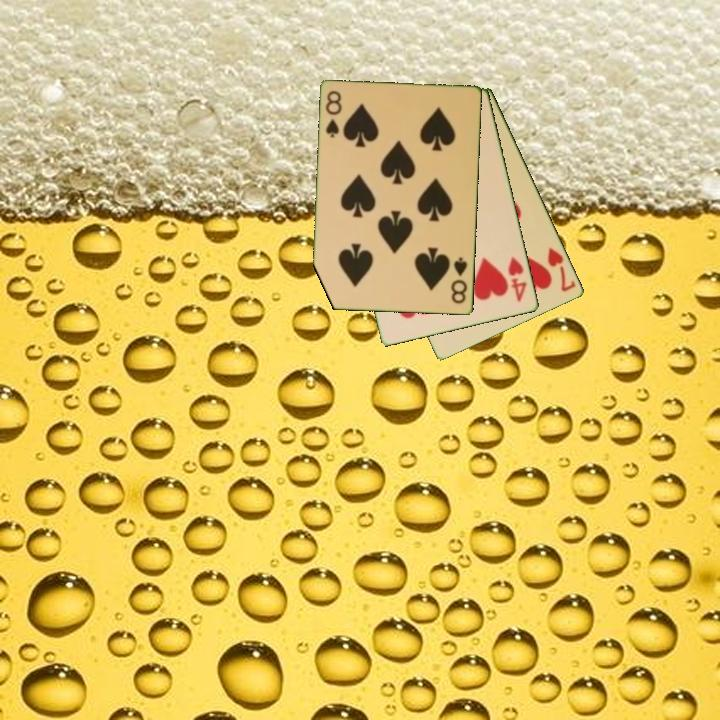4h: (505, 253, 530, 305)
7h: (544, 244, 579, 295)
8s: (448, 254, 471, 307), (322, 88, 345, 141)
